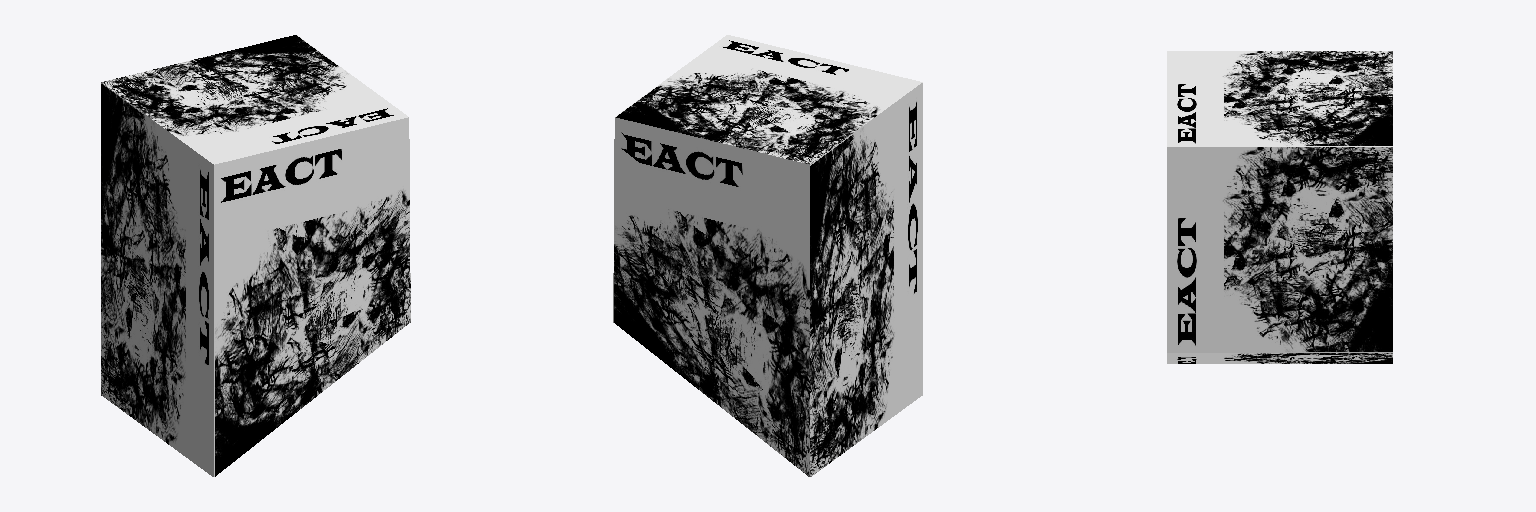
3 views of the same model, side by side, from view 1: azimuth 30°, elevation 25°; view 2: azimuth 150°, elevation 25°; view 3: azimuth 270°, elevation 25° (orthographic).
Visible parts, largest first — view 1: Grafiti; view 2: Grafiti; view 3: Grafiti.
Boxes of the visible parts, <box> form: Grafiti: <box>101,35,410,476</box>; Grafiti: <box>613,35,922,476</box>; Grafiti: <box>1167,51,1392,363</box>.
Size of the model in its own units: 58.51 by 88.85 by 58.05.
Materials: 1 (1 with a texture image).